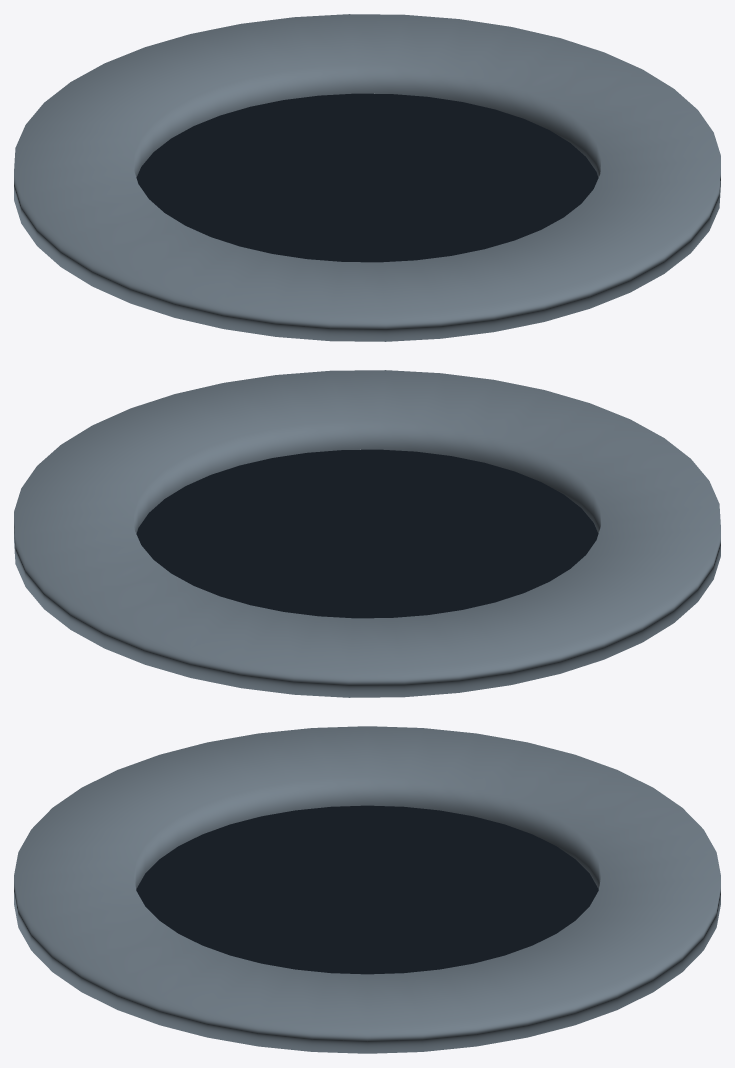
The model's file is tranquility.axial_hatch_b.glb.
The picture shows the model from 3 angles, top to bottom: view 1: azimuth 30°, elevation 25°; view 2: azimuth 150°, elevation 25°; view 3: azimuth 270°, elevation 25°; orthographic projection.
Visible parts, largest first — view 1: tranquility.axial_hatch_b.mesh_Machined_steel, tranquility.axial_hatch_b.mesh_Shadowed_interior; view 2: tranquility.axial_hatch_b.mesh_Machined_steel, tranquility.axial_hatch_b.mesh_Shadowed_interior; view 3: tranquility.axial_hatch_b.mesh_Machined_steel, tranquility.axial_hatch_b.mesh_Shadowed_interior.
Part boxes in pixels (x1,y1,x2,y2): tranquility.axial_hatch_b.mesh_Machined_steel: (14,14,720,341); tranquility.axial_hatch_b.mesh_Shadowed_interior: (136,93,598,262); tranquility.axial_hatch_b.mesh_Machined_steel: (14,370,720,697); tranquility.axial_hatch_b.mesh_Shadowed_interior: (136,449,598,618); tranquility.axial_hatch_b.mesh_Machined_steel: (14,726,720,1053); tranquility.axial_hatch_b.mesh_Shadowed_interior: (136,805,598,974).
Size of the model in its own units: 2.89 by 0.22 by 2.89.
